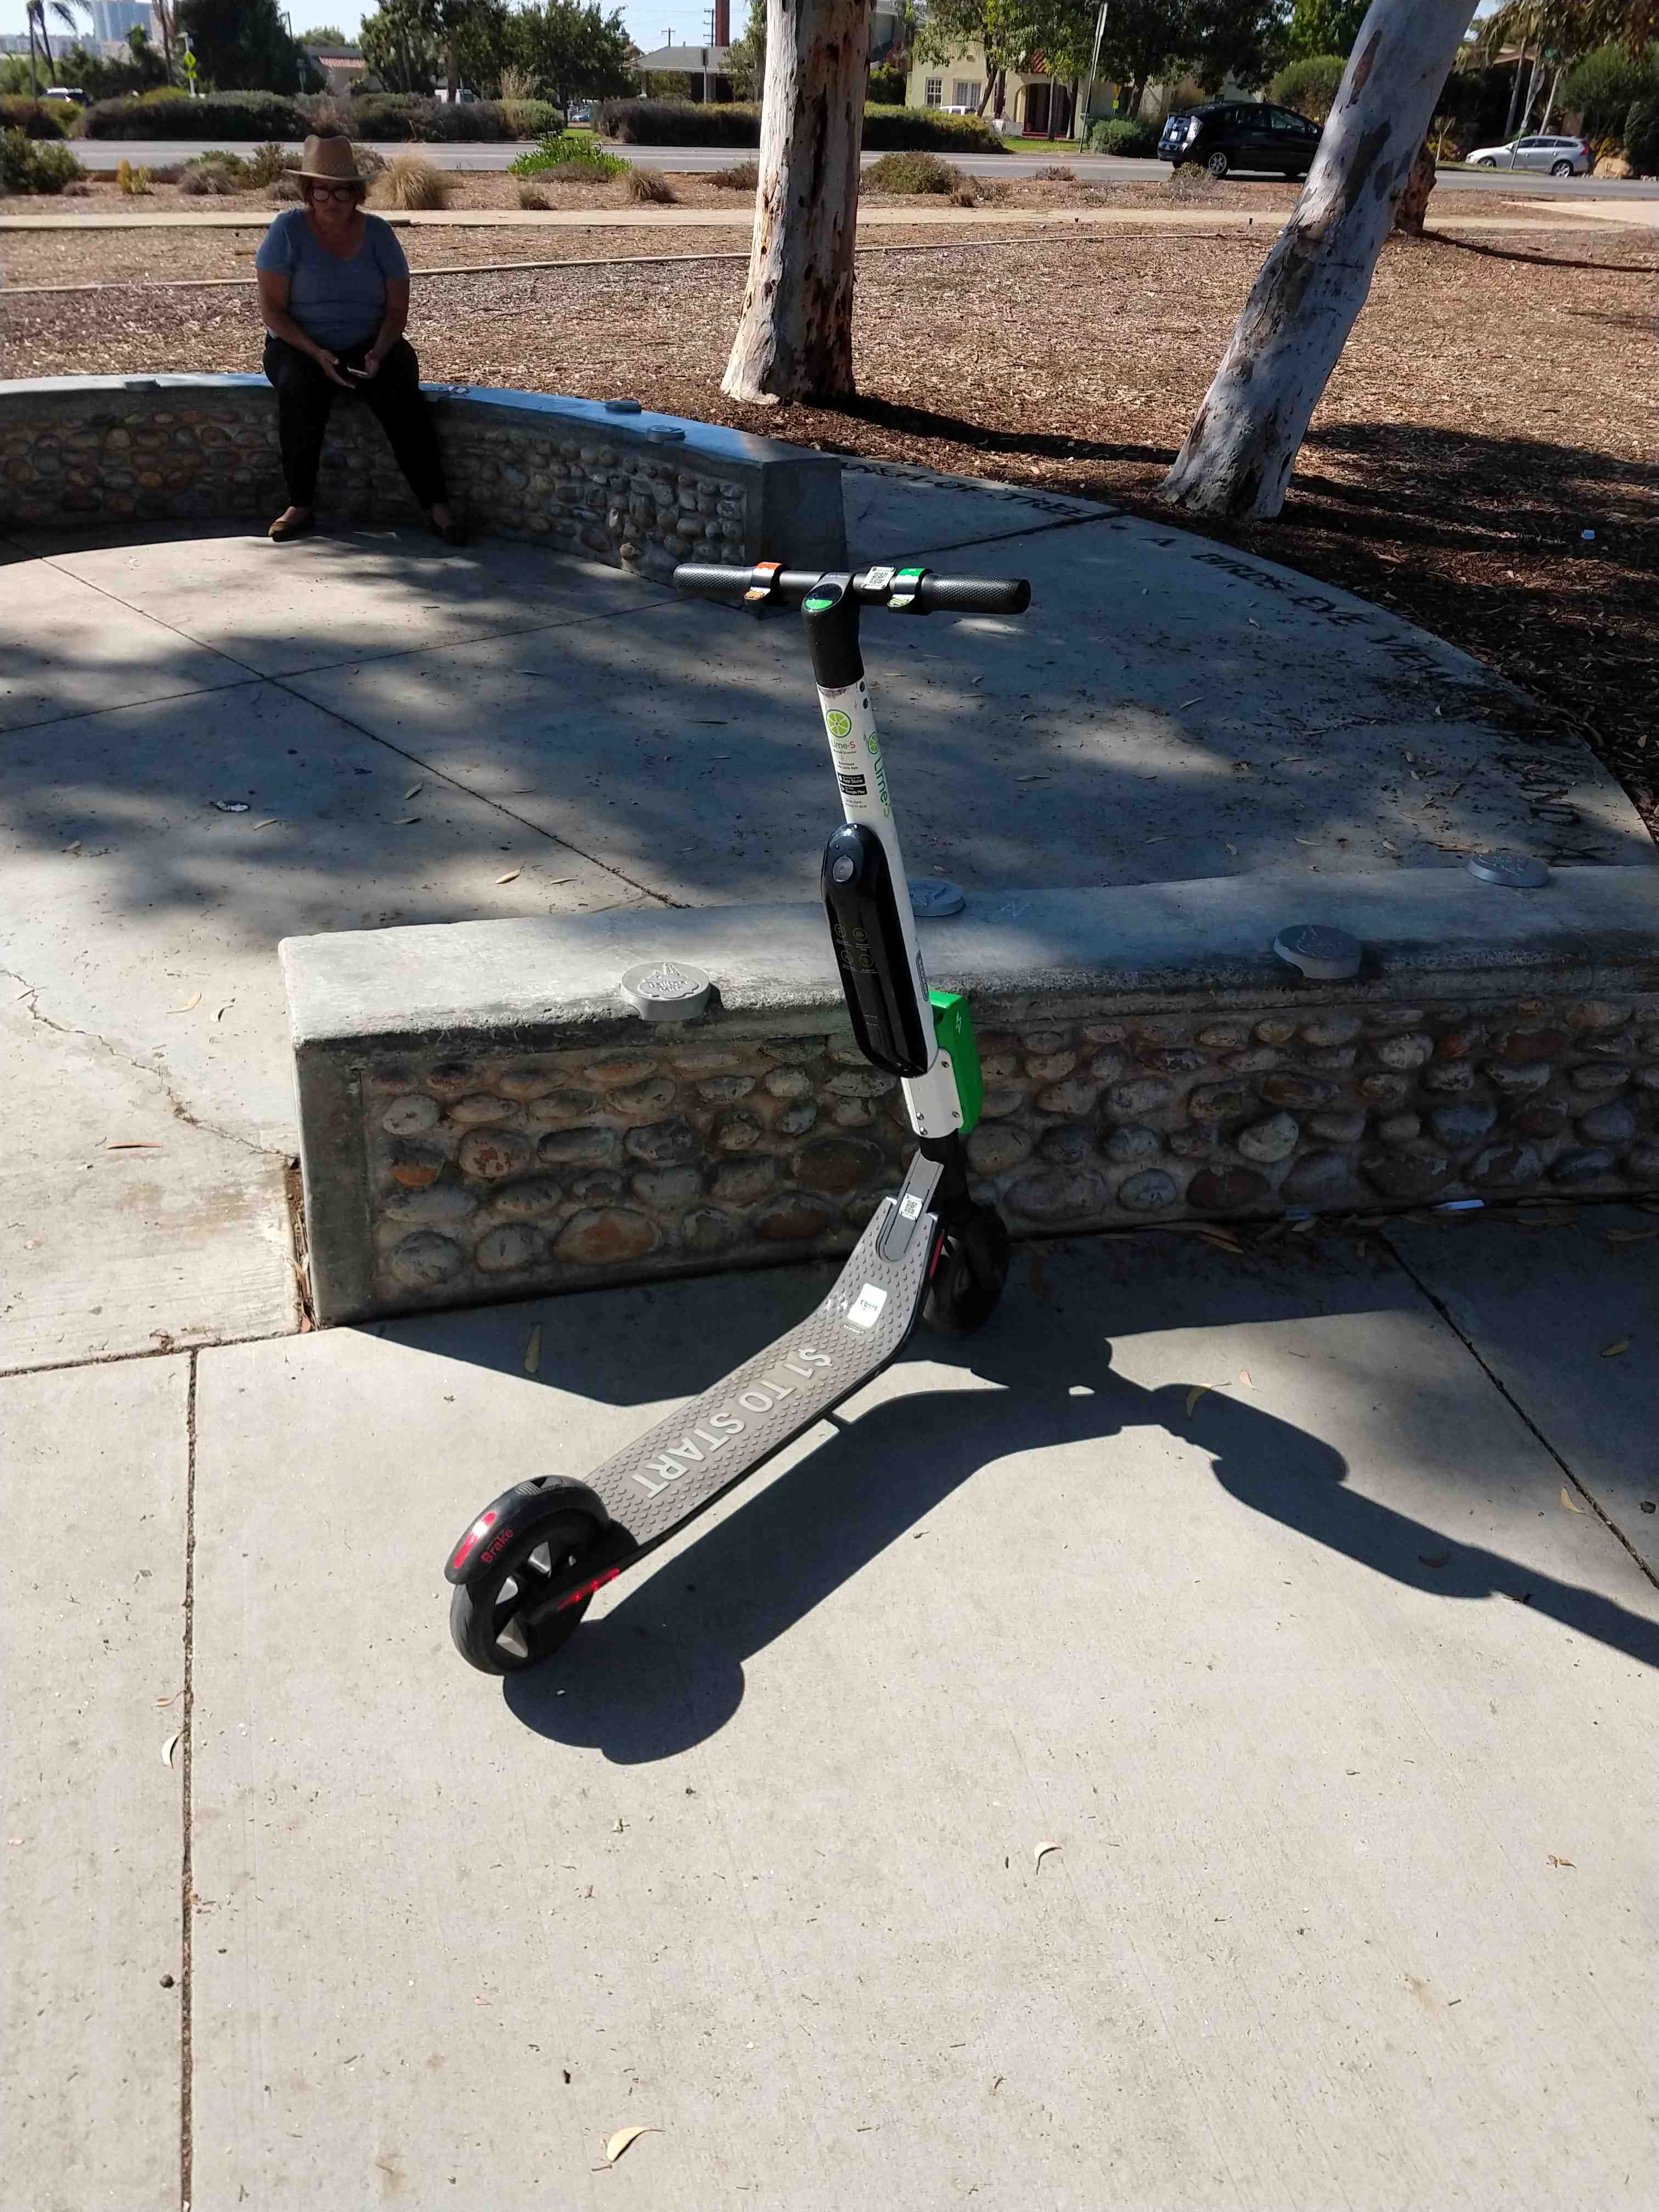scooter: (439, 554, 1072, 1778)
